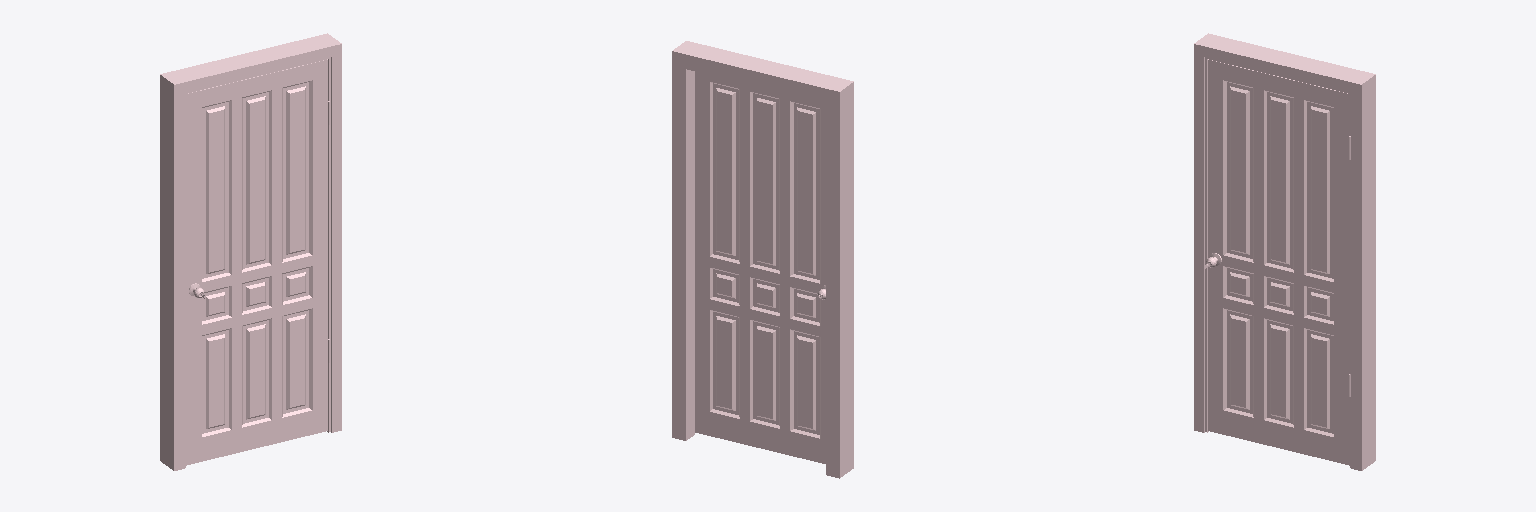
File: door.obj
3 views of the same model, side by side, from view 1: azimuth 30°, elevation 25°; view 2: azimuth 150°, elevation 25°; view 3: azimuth 330°, elevation 25° (orthographic).
Parts seen in each view (by area): view 1: leaf, frame; view 2: leaf, frame; view 3: leaf, frame.
Boxes of the visible parts, <box> form: leaf: <box>186,59,329,465</box>; frame: <box>160,33,341,470</box>; leaf: <box>695,72,825,463</box>; frame: <box>672,41,853,478</box>; leaf: <box>1208,59,1350,465</box>; frame: <box>1194,33,1375,470</box>.
Bounding box in the file's own units: 0.944 × 2.08 × 0.236.